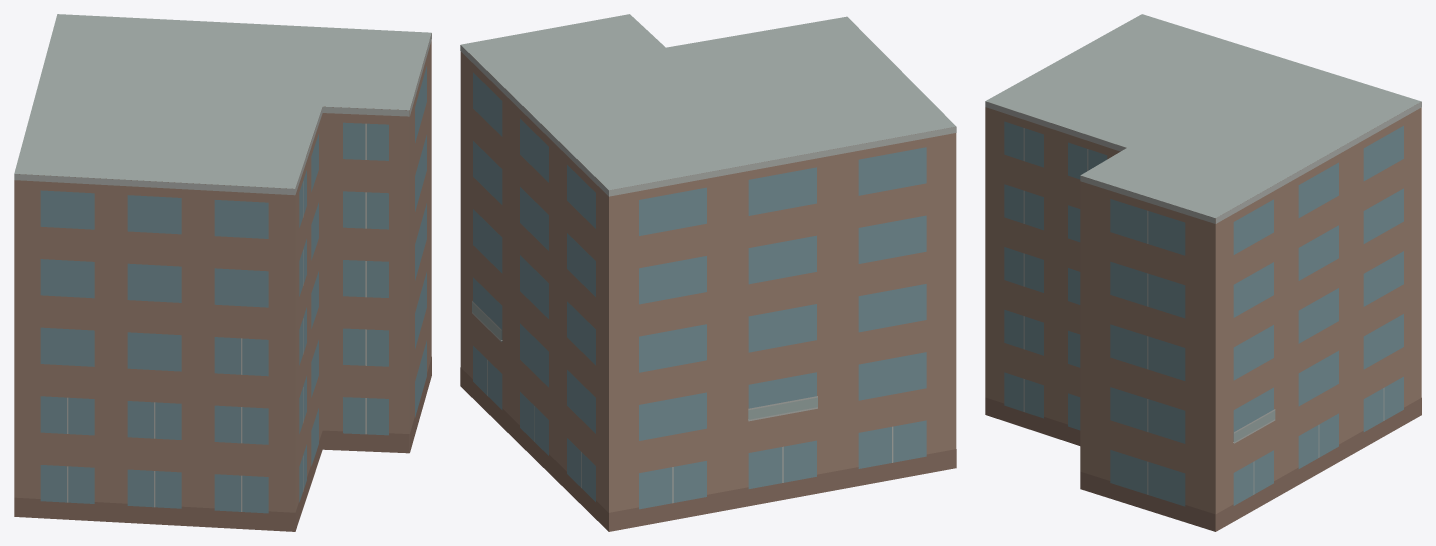
The model's file is survey-upis-32599524.glb.
3 views of the same model, side by side, from view 1: azimuth 30°, elevation 25°; view 2: azimuth 150°, elevation 25°; view 3: azimuth 270°, elevation 25° (orthographic). The views are drawn at different scales.
Parts seen in each view (by area): view 1: survey-upis-32599524.tmp; view 2: survey-upis-32599524.tmp; view 3: survey-upis-32599524.tmp.
Boxes of the visible parts, x1,y1,x2,y2 form: survey-upis-32599524.tmp: [14, 14, 431, 531]; survey-upis-32599524.tmp: [460, 14, 956, 531]; survey-upis-32599524.tmp: [985, 14, 1421, 531].
Bounding box in the file's own units: 18.45 × 13.2 × 16.66.
